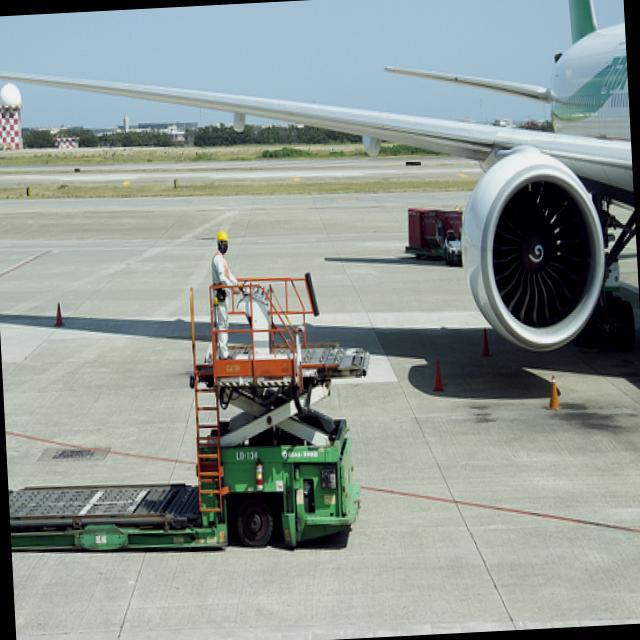Vehicle: (0, 271, 384, 561), (403, 205, 465, 263)
